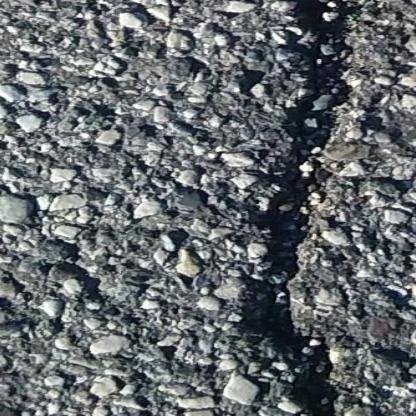Cracks: (236, 0, 368, 416)
